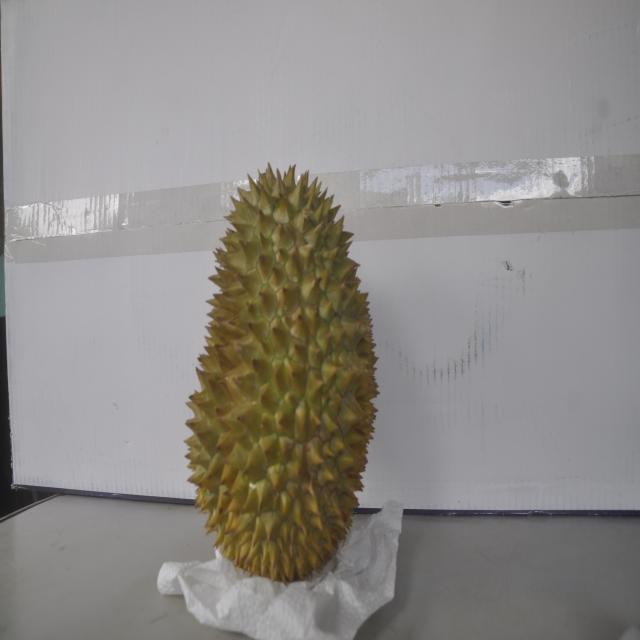mature: (182, 162, 380, 581)
